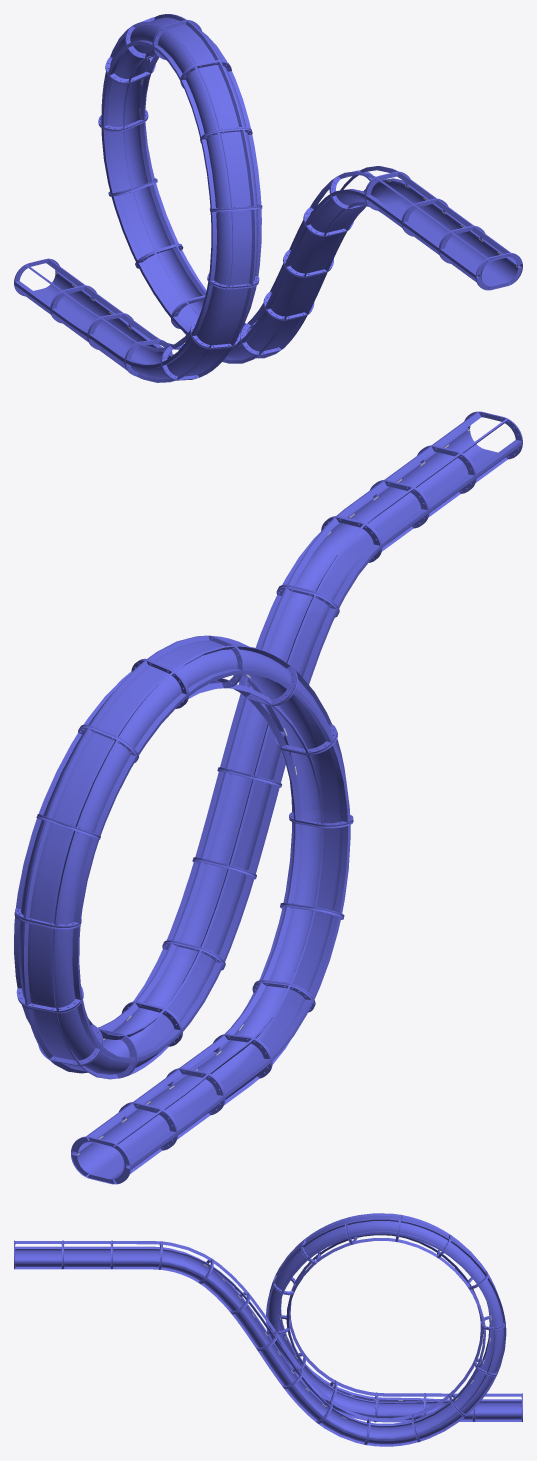
Rendered from Looping_Wanne.fbx.
The picture shows the model from 3 angles, top to bottom: view 1: azimuth 30°, elevation 25°; view 2: azimuth 150°, elevation 25°; view 3: azimuth 270°, elevation 25°; orthographic projection. The views are drawn at different scales.
Parts seen in each view (by area): view 1: Looping_Wanne; view 2: Looping_Wanne; view 3: Looping_Wanne.
Part boxes in pixels (x1,y1,x2,y2): Looping_Wanne: (14,14,522,382); Looping_Wanne: (14,411,522,1184); Looping_Wanne: (14,1213,522,1446).
Size of the model in its own units: 963 by 2451 by 5200.
